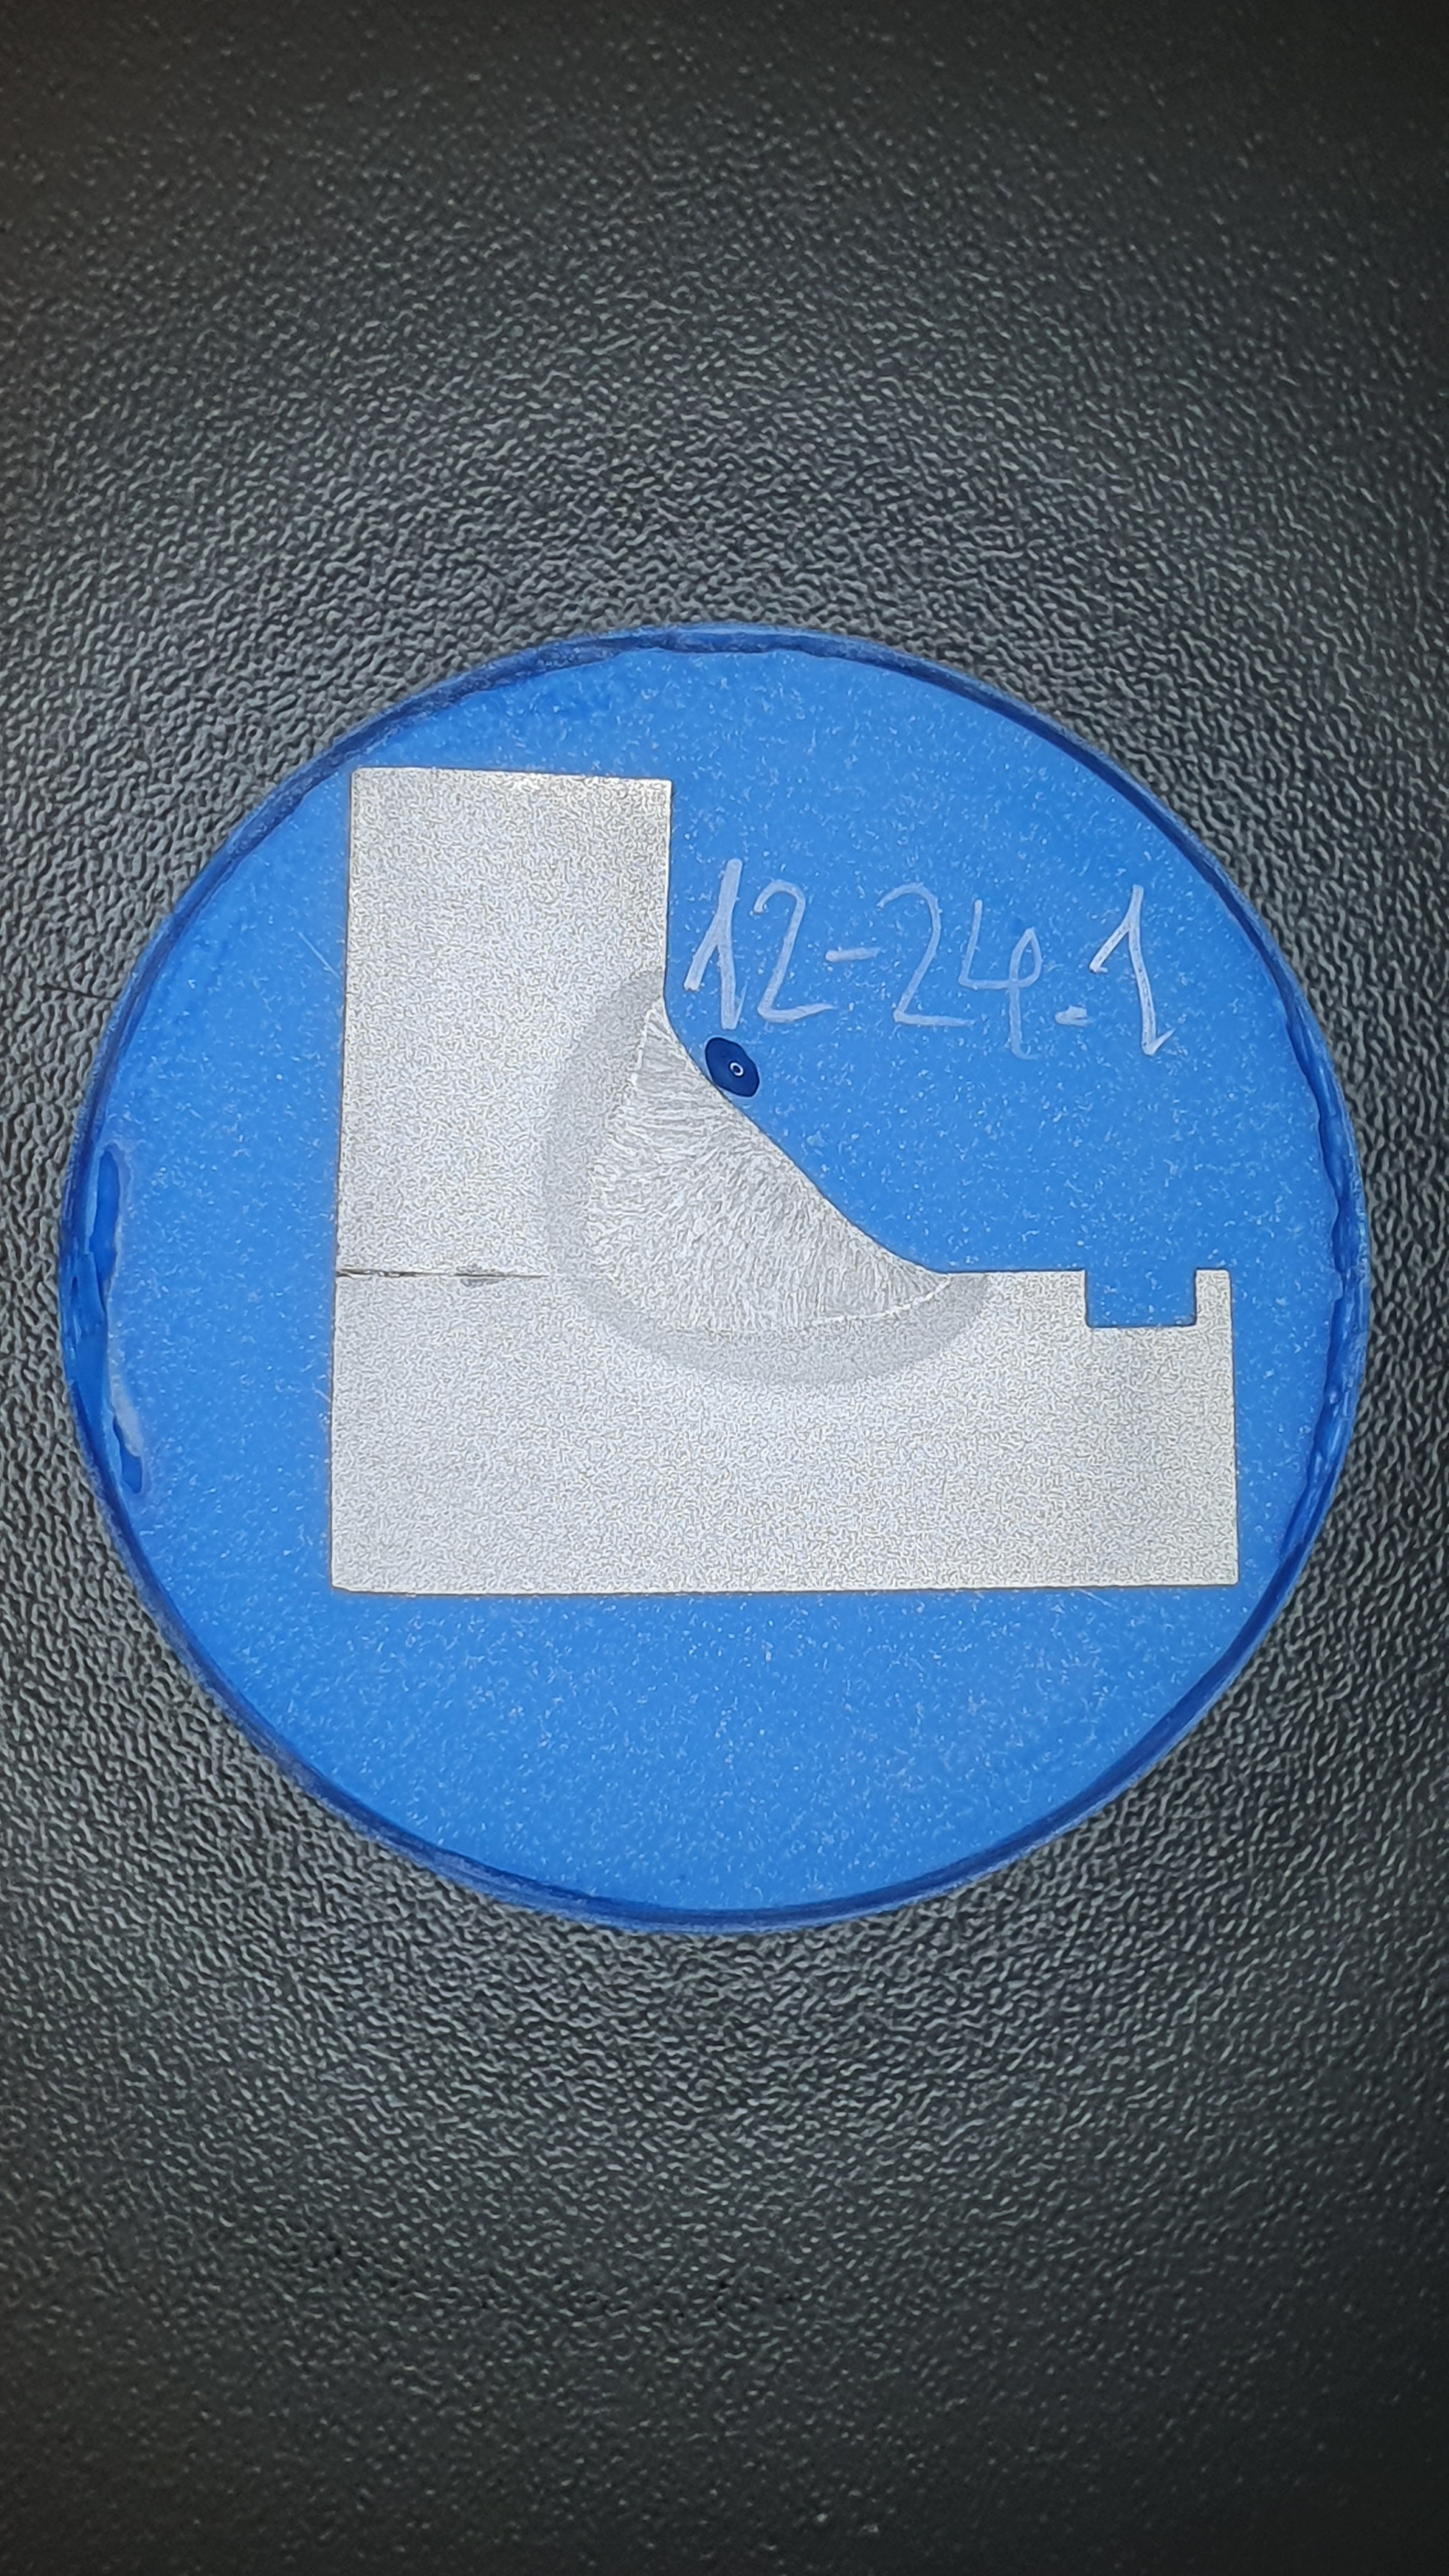Fusion: (586, 996, 950, 1336)
Hintergrund: (73, 646, 1341, 1909)
Metall: (331, 766, 1238, 1596)
Nebenbereich: (541, 964, 991, 1389)
